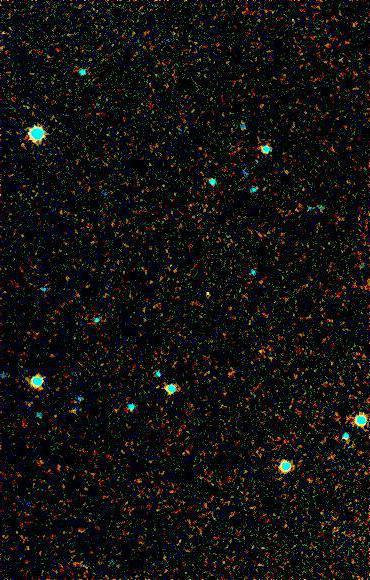star: (194, 277, 224, 307)
